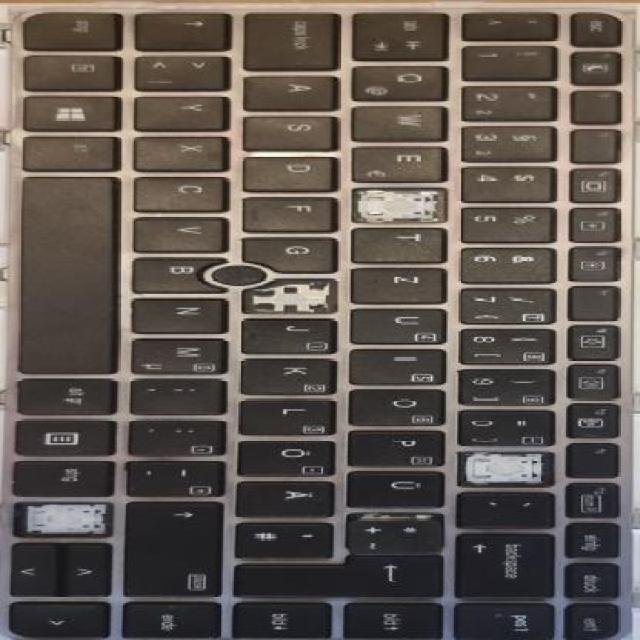Keyboard problems: (354, 188, 445, 222), (460, 452, 552, 485), (18, 503, 111, 535), (243, 280, 335, 312)
